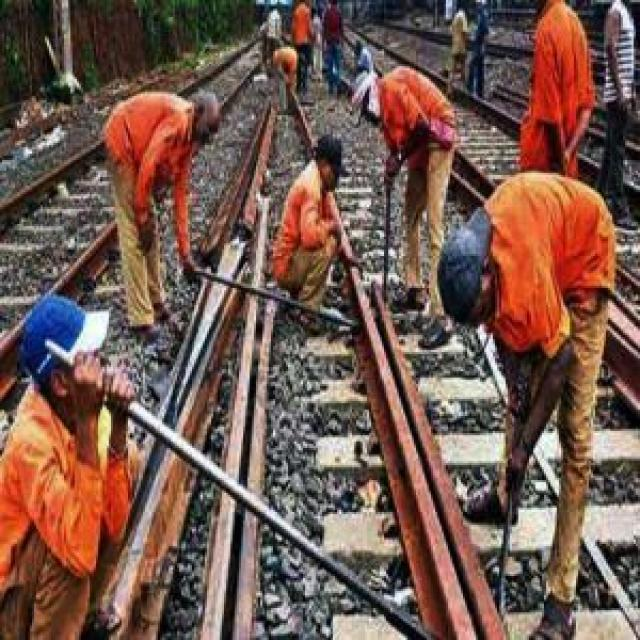rail: (60, 99, 525, 640), (1, 34, 265, 427)
